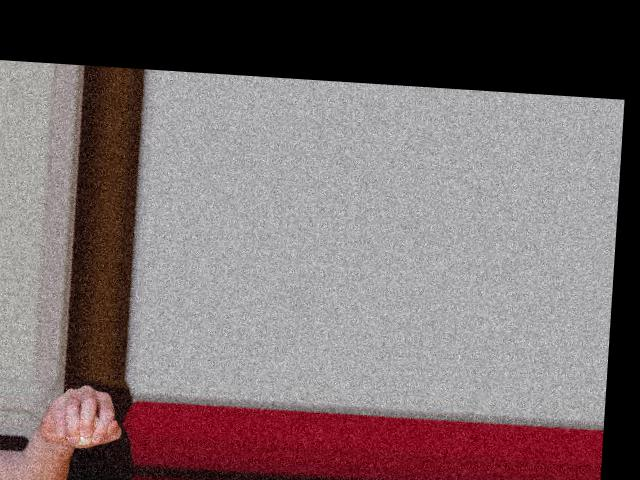egg: (66, 410, 103, 446)
